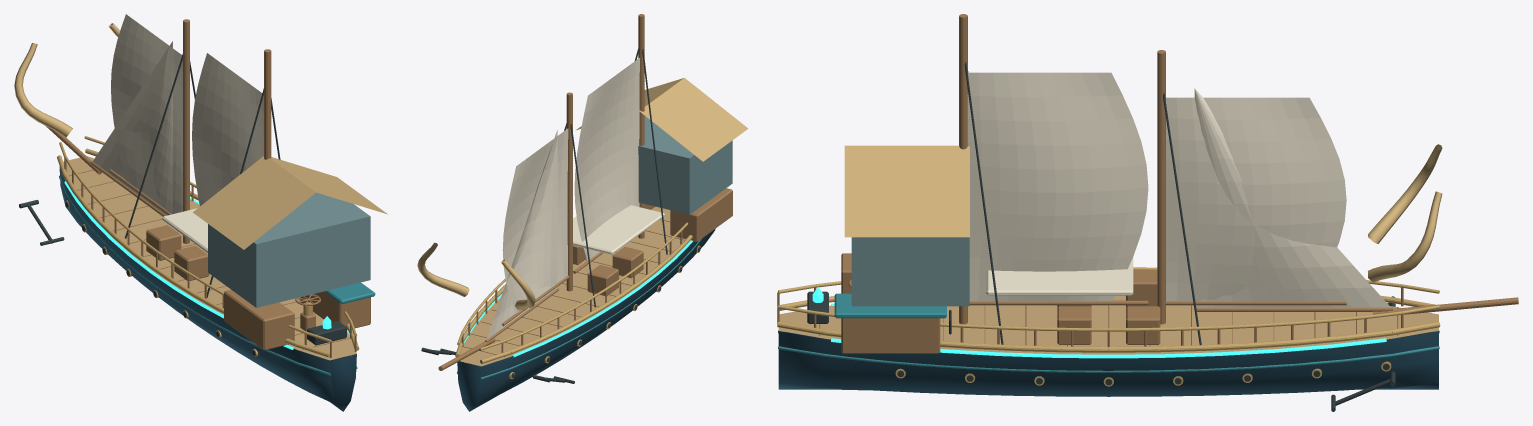
The model's file is premium_imperial_yacht.glb.
3 views of the same model, side by side, from view 1: azimuth 30°, elevation 25°; view 2: azimuth 150°, elevation 25°; view 3: azimuth 270°, elevation 25° (orthographic). The views are drawn at different scales.
Parts seen in each view (by area): view 1: premium_imperial_yacht; view 2: premium_imperial_yacht; view 3: premium_imperial_yacht.
Boxes of the visible parts, bbox=[...] form: premium_imperial_yacht: bbox=[14, 14, 387, 411]; premium_imperial_yacht: bbox=[417, 14, 748, 411]; premium_imperial_yacht: bbox=[777, 14, 1518, 411].
Bounding box in the file's own units: 4.34 × 8.43 × 15.15.
